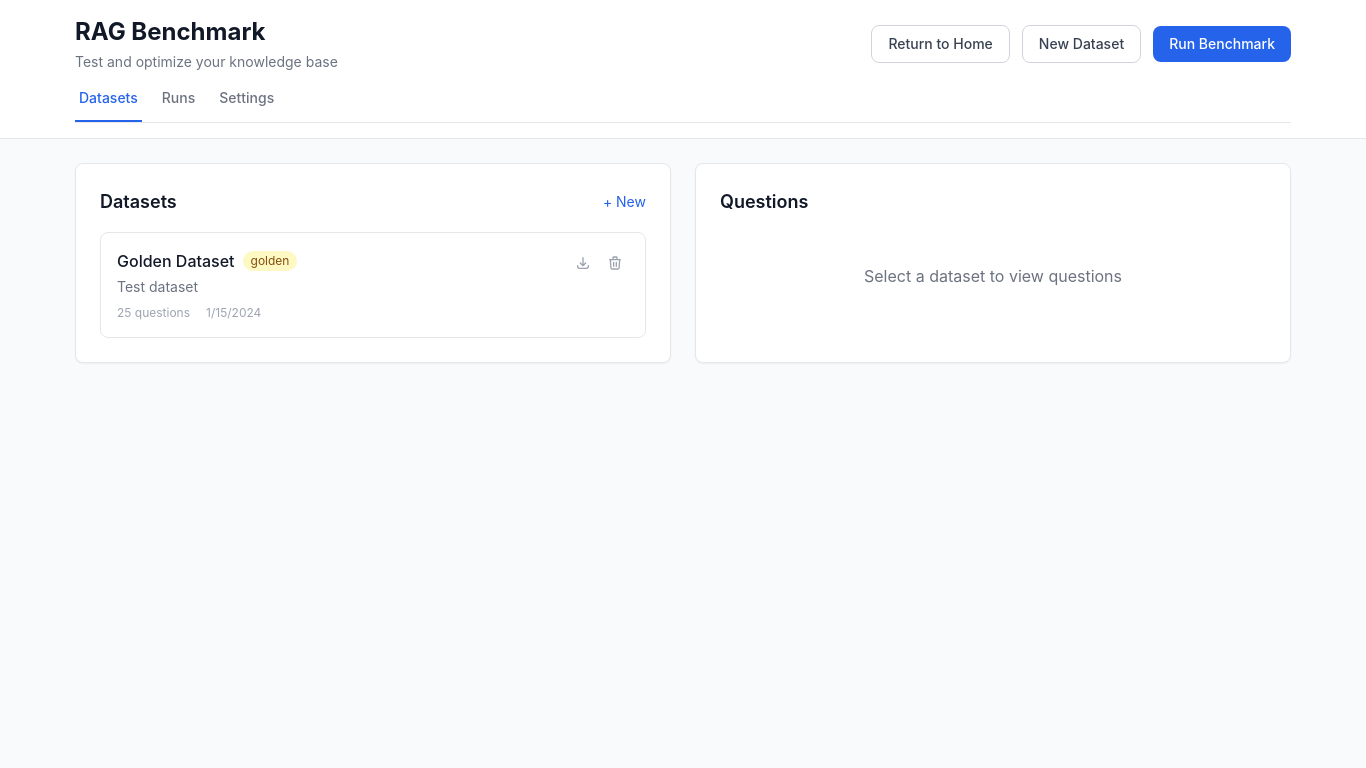
Test: BenchmarkDashboard › opens create dataset modal
Click the button "New Dataset" at [1082, 44], box [1022,25,1141,63]
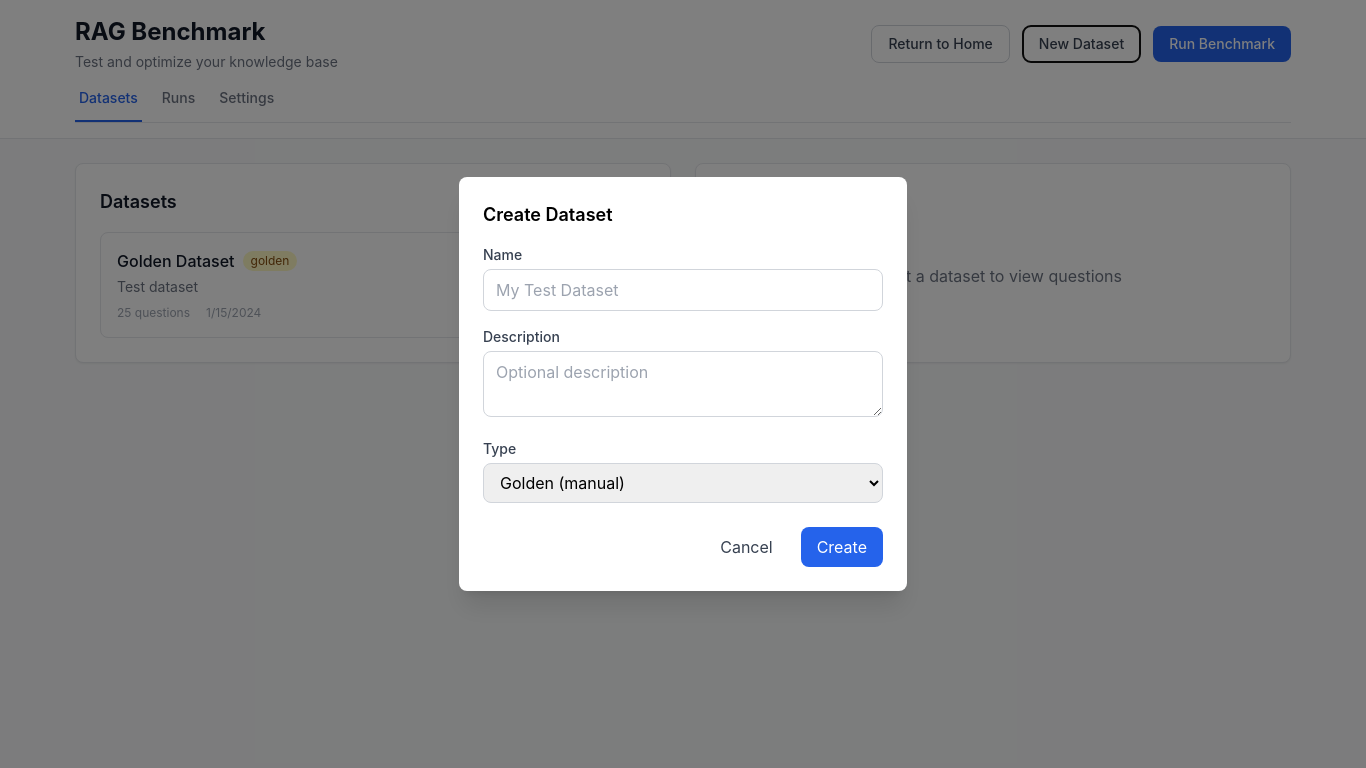
Check: the heading "Create Dataset" is shown, box [483,204,612,225]
Check: the field with placeholder "My Test Dataset" is shown, box [483,269,883,311]
Check: the text box with placeholder "Optional description" is shown, box [483,351,883,417]
